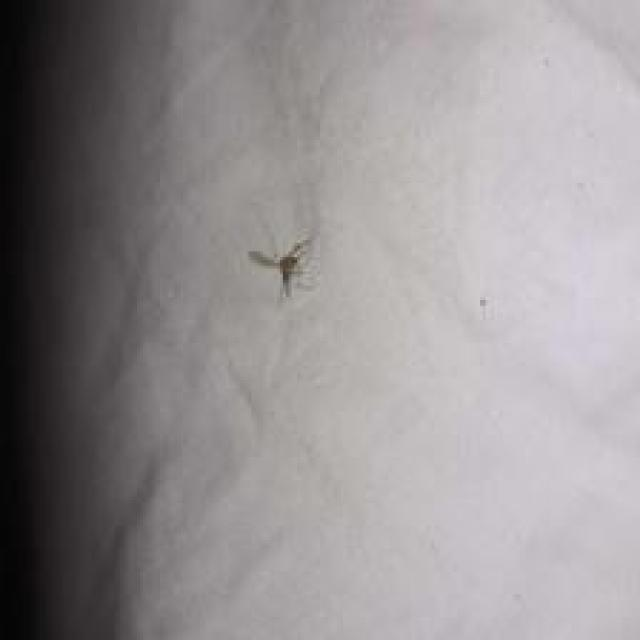Culex: (247, 236, 313, 298)
